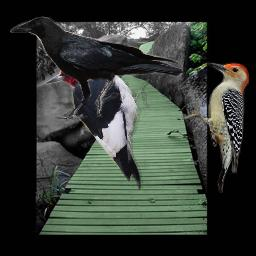Crow: (10, 15, 183, 119)
Woodpecker: (40, 53, 150, 190), (182, 62, 249, 193)
